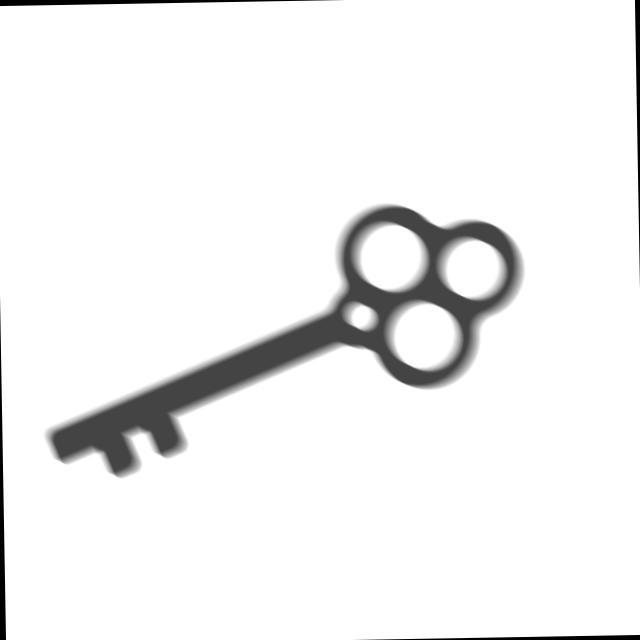key: (37, 199, 536, 490)
